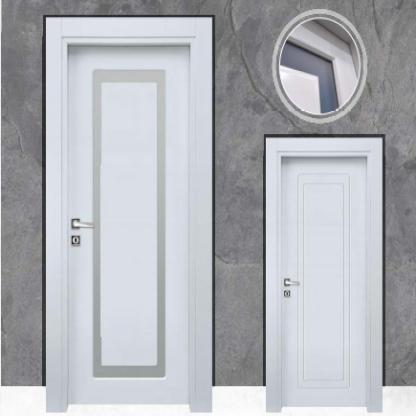door: (67, 44, 187, 404), (280, 156, 369, 411)
